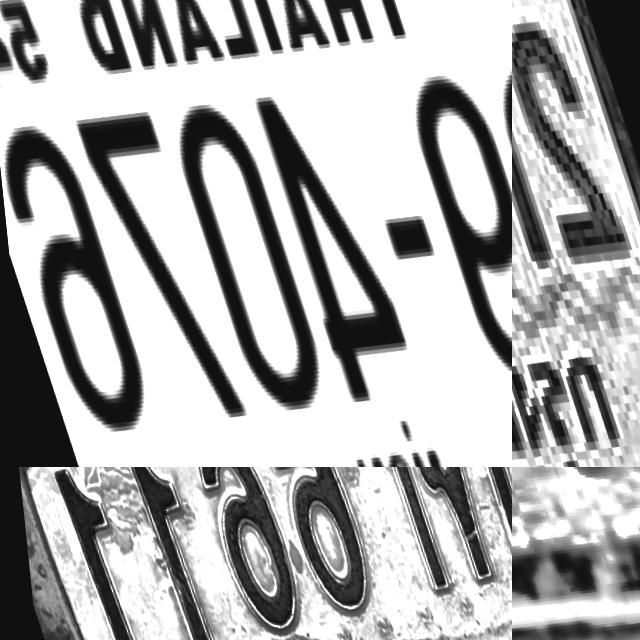license-plate: (0, 0, 512, 467), (0, 467, 512, 640), (512, 0, 640, 467), (512, 467, 640, 640)
